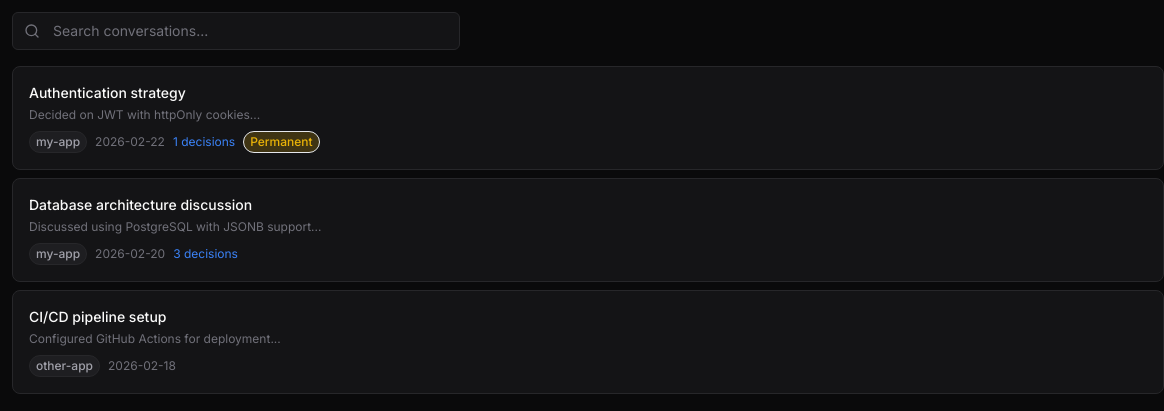
Test: ConversationBrowser › filters by text search
This screenshot has width=1164, height=411.
Type "auth" into the field with placeholder "Search conversations..." at (236, 31), box x1=12 y1=12 x2=460 y2=50
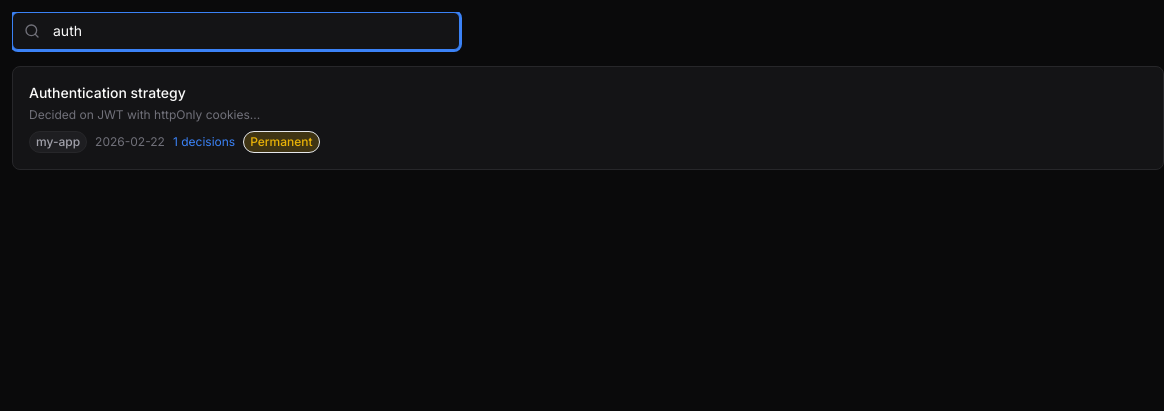
Expected: the text "Authentication strategy" is shown, x1=29 y1=84 x2=186 y2=101
Expected: the button "CI/CD pipeline setup" is gone
